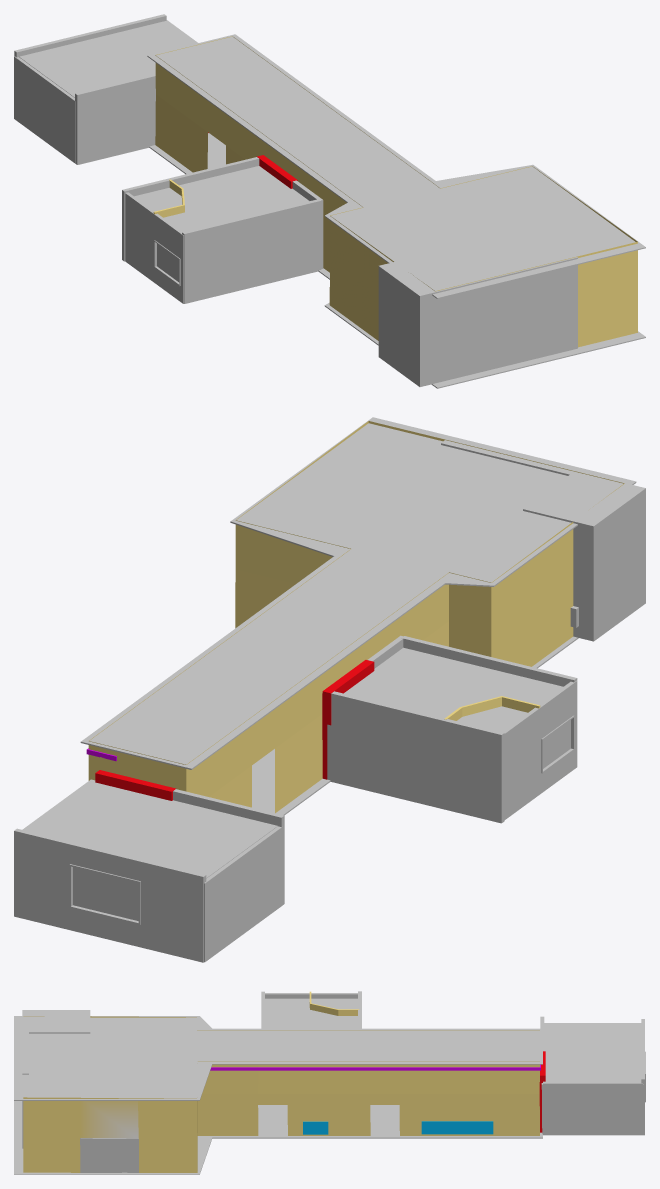
File: hospital.fbx
3 views of the same model, one above another, from view 1: azimuth 30°, elevation 25°; view 2: azimuth 150°, elevation 25°; view 3: azimuth 270°, elevation 25° (orthographic). The views are drawn at different scales.
Visible parts, largest first — view 1: Ceiling_Hallway, BehindReception, Walls_Hallway, LeftWall, Ceiling.004, FrontWall.004, Ceiling, LeftWallVanas, BackWall, Floor_Hallway, RightWall, BackWall.001 (+1 smaller); view 2: Ceiling_Hallway, Walls_Hallway, RightWall, BackWall.001, BehindReception, Ceiling.004, Ceiling, LeftWallVanas, BackWall, WindowGlass.001, LeftWall, Floor_Hallway (+6 smaller); view 3: Walls_Hallway, Ceiling_Hallway, Ceiling.004, RightWall.004, Floor_Hallway, Ceiling, BehindReception, EntranceDoor_Glass, LightBlock_Hallway, Seats_Hallway.001, BackWall, EntraceDoor_Frame (+3 smaller).
Part boxes in pixels (<box>): Ceiling_Hallway: <box>147,34,645,298</box>; BehindReception: <box>378,252,577,386</box>; Walls_Hallway: <box>155,36,637,347</box>; LeftWall: <box>182,199,321,303</box>; Ceiling.004: <box>19,20,197,97</box>; FrontWall.004: <box>75,73,155,164</box>; Ceiling: <box>134,166,309,231</box>; LeftWallVanas: <box>14,56,75,163</box>; BackWall: <box>125,192,183,303</box>; Floor_Hallway: <box>149,133,645,388</box>; RightWall: <box>122,157,259,261</box>; BackWall.001: <box>14,14,166,57</box>; Ceiling_Hallway: <box>80,417,636,769</box>; Walls_Hallway: <box>88,421,624,813</box>; RightWall: <box>327,691,504,823</box>; BackWall.001: <box>14,828,206,962</box>; BehindReception: <box>441,439,645,641</box>; Ceiling.004: <box>22,779,277,878</box>; Ceiling: <box>344,647,563,731</box>; LeftWallVanas: <box>204,826,282,962</box>; BackWall: <box>502,680,577,819</box>; WindowGlass.001: <box>73,867,138,920</box>; LeftWall: <box>401,636,577,686</box>; Floor_Hallway: <box>252,636,578,815</box>; Walls_Hallway: <box>23,1016,539,1172</box>; Ceiling_Hallway: <box>14,1016,542,1100</box>; Ceiling.004: <box>543,1023,642,1089</box>; RightWall.004: <box>541,1083,643,1135</box>; Floor_Hallway: <box>14,1101,542,1174</box>; Ceiling: <box>265,998,357,1028</box>; BehindReception: <box>22,1010,90,1148</box>; EntranceDoor_Glass: <box>82,1140,136,1172</box>; LightBlock_Hallway: <box>210,1064,540,1070</box>; Seats_Hallway.001: <box>421,1121,493,1134</box>; BackWall: <box>265,993,357,998</box>; EntraceDoor_Frame: <box>80,1138,138,1172</box>.
Bounding box in the file's own units: 15.88 × 4.68 × 33.7.
